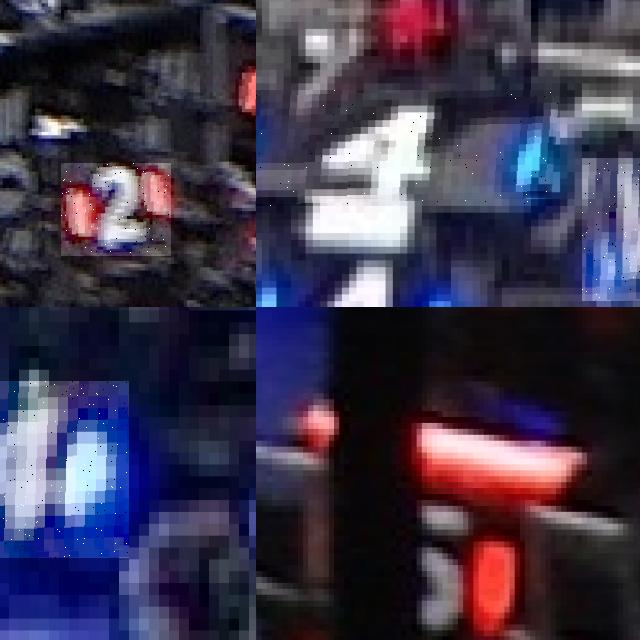B4: (256, 90, 560, 205), (0, 381, 129, 559), (581, 158, 640, 301), (256, 267, 458, 307)
R2: (61, 163, 171, 256)
